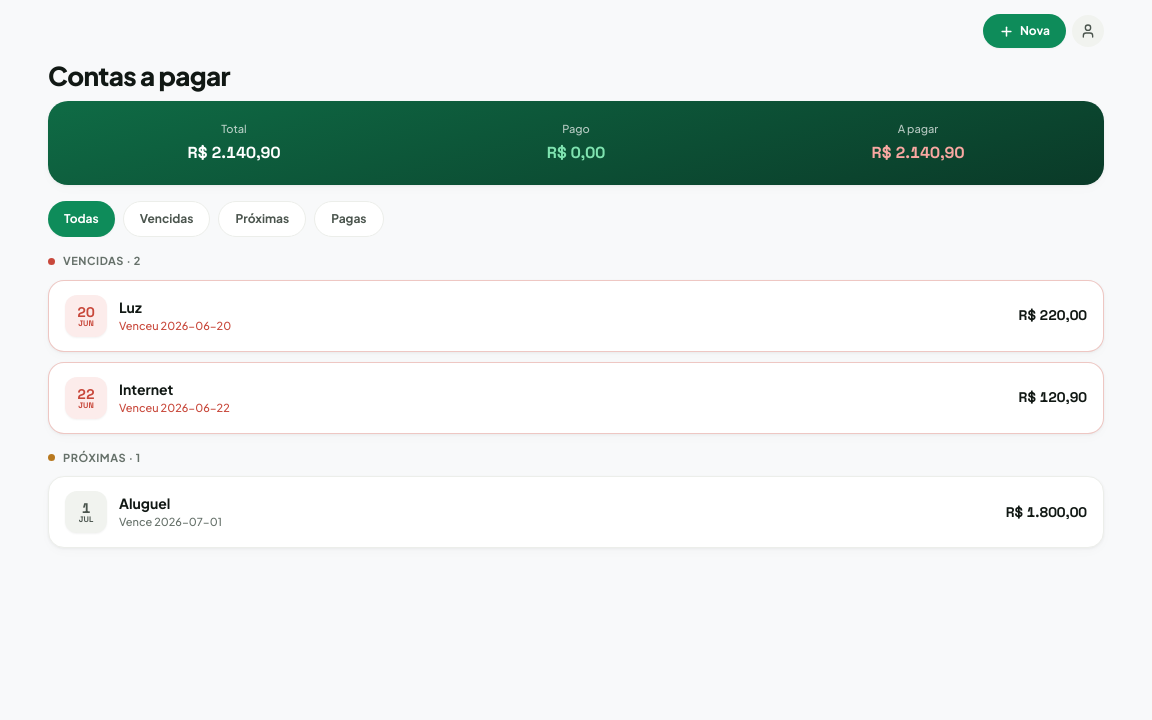
PayablesPage › with data › filters: only overdue items show when Vencidas selected
Step 1. Click the button "Vencidas" → point(167, 219), box [123,201,210,237]
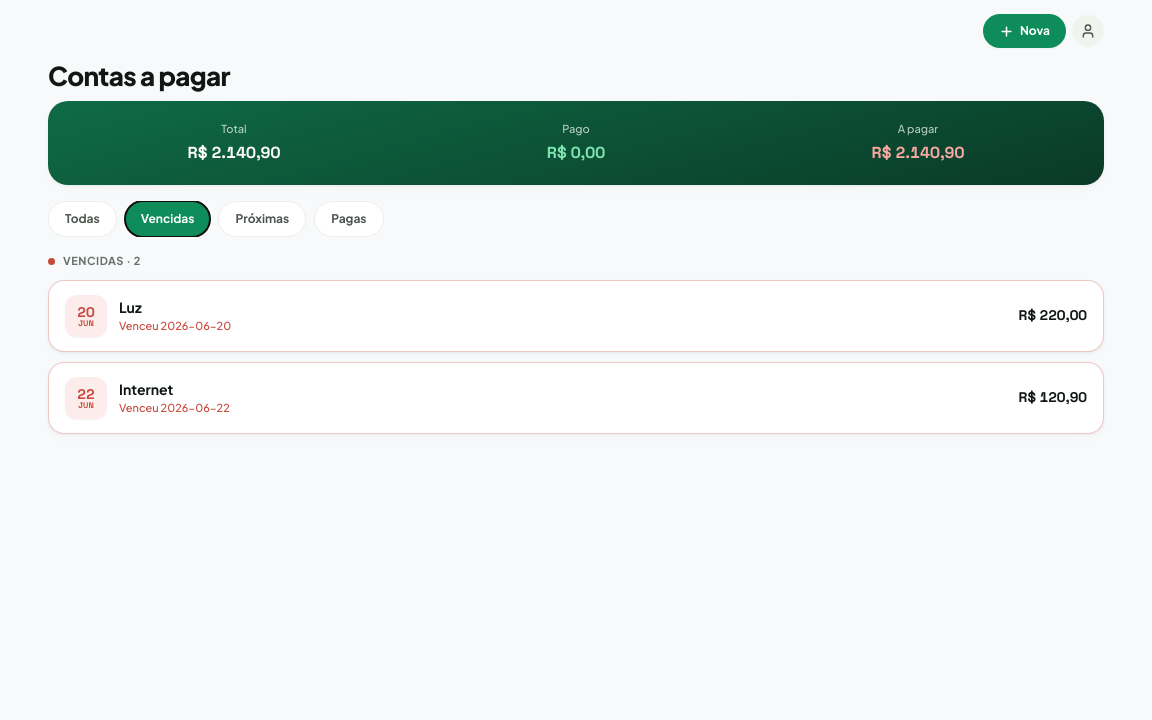
Expected: the text "Luz" is shown, [119,298,142,316]
Now the text "Aluguel" is gone
